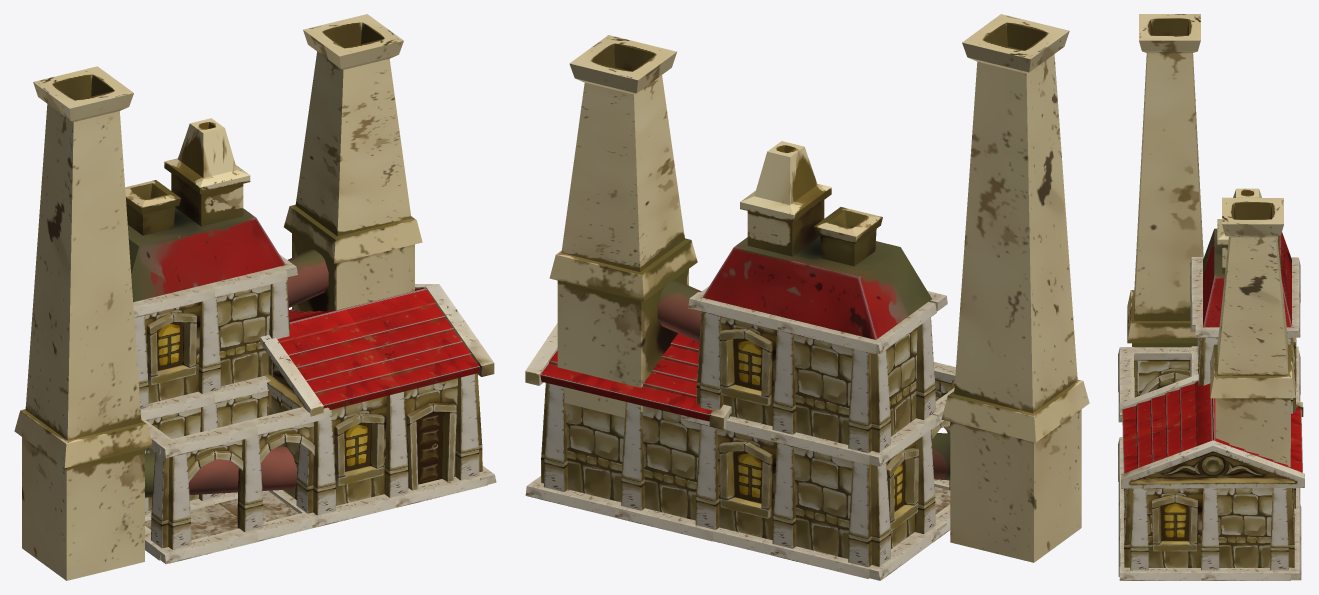
File: Rome_Village_Buildings_14.FBX
3 views of the same model, side by side, from view 1: azimuth 30°, elevation 25°; view 2: azimuth 150°, elevation 25°; view 3: azimuth 270°, elevation 25° (orthographic). The views are drawn at different scales.
Parts seen in each view (by area): view 1: Rome_Village_Buildings_14; view 2: Rome_Village_Buildings_14; view 3: Rome_Village_Buildings_14.
Part boxes in pixels (<box>): Rome_Village_Buildings_14: <box>14,14,496,580</box>; Rome_Village_Buildings_14: <box>525,14,1089,580</box>; Rome_Village_Buildings_14: <box>1118,14,1304,580</box>.
Size of the model in its own units: 1299 by 1358 by 581.
